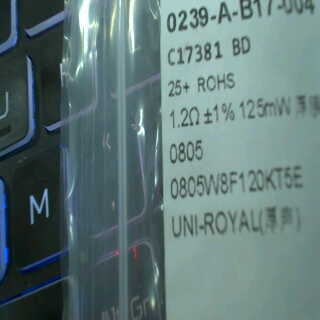1.2R: (167, 103, 204, 169)
